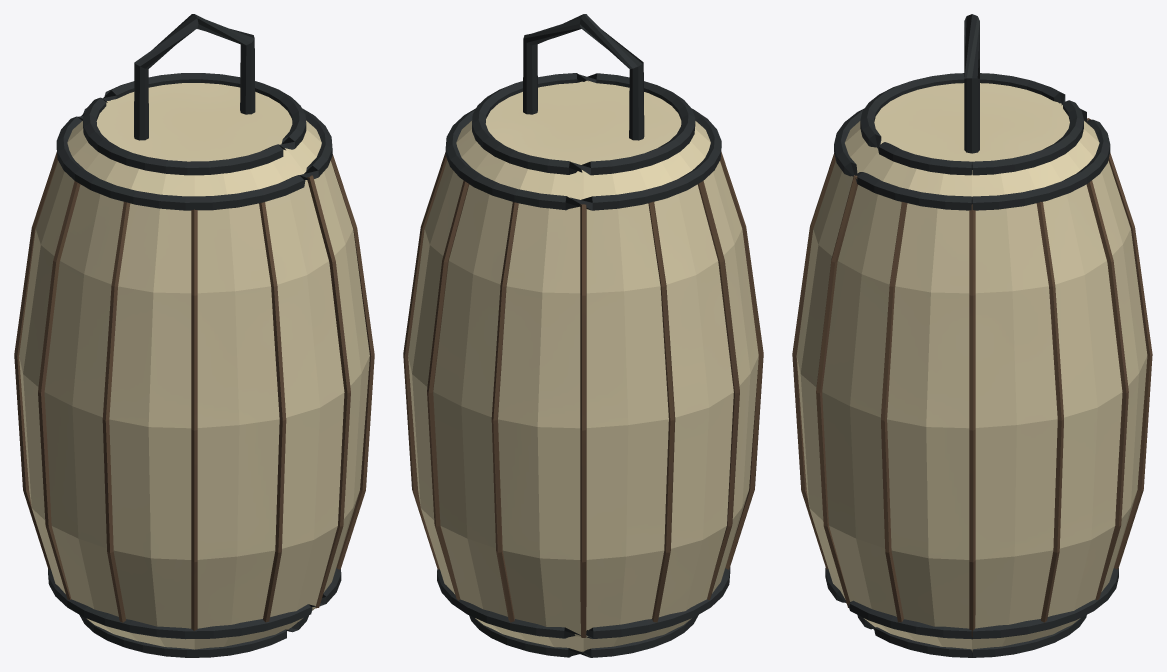
File: PR_PaperLantern.glb
3 renders of one model, left to right at view 1: azimuth 30°, elevation 25°; view 2: azimuth 150°, elevation 25°; view 3: azimuth 270°, elevation 25°, orthographic.
Visible parts, largest first — view 1: PR_PaperLantern; view 2: PR_PaperLantern; view 3: PR_PaperLantern.
Part boxes in pixels (x1=…): PR_PaperLantern: x1=14, y1=14, x2=374, y2=657; PR_PaperLantern: x1=403, y1=14, x2=763, y2=657; PR_PaperLantern: x1=792, y1=14, x2=1152, y2=657.
Size of the model in its own units: 0.4116 by 0.753 by 0.4112.
3 materials, 2 textured.
